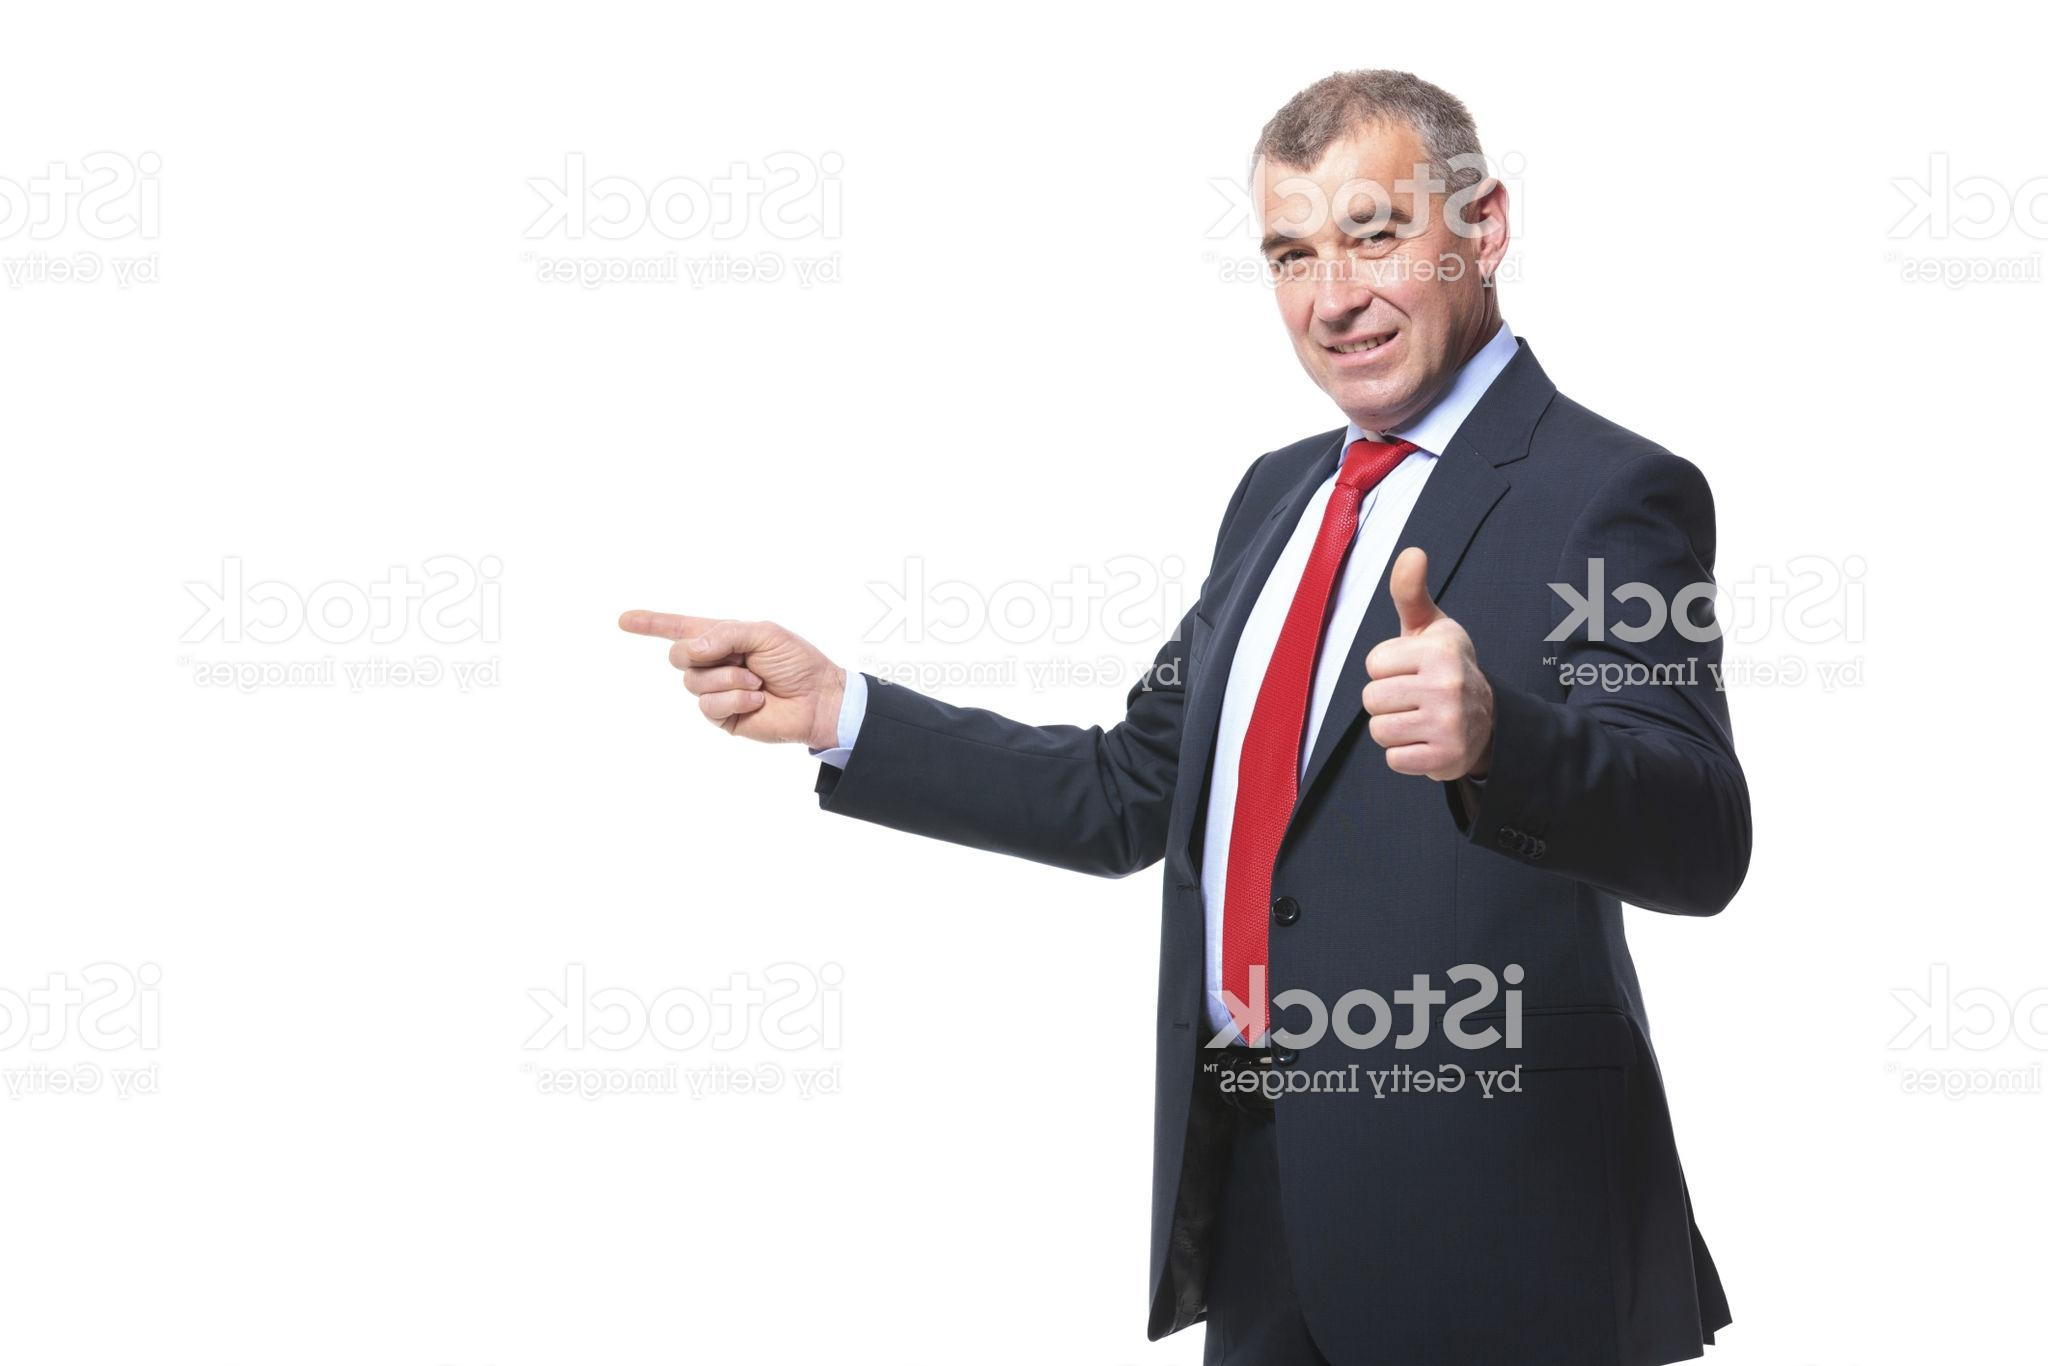thumbsup: (1361, 544, 1480, 787)
